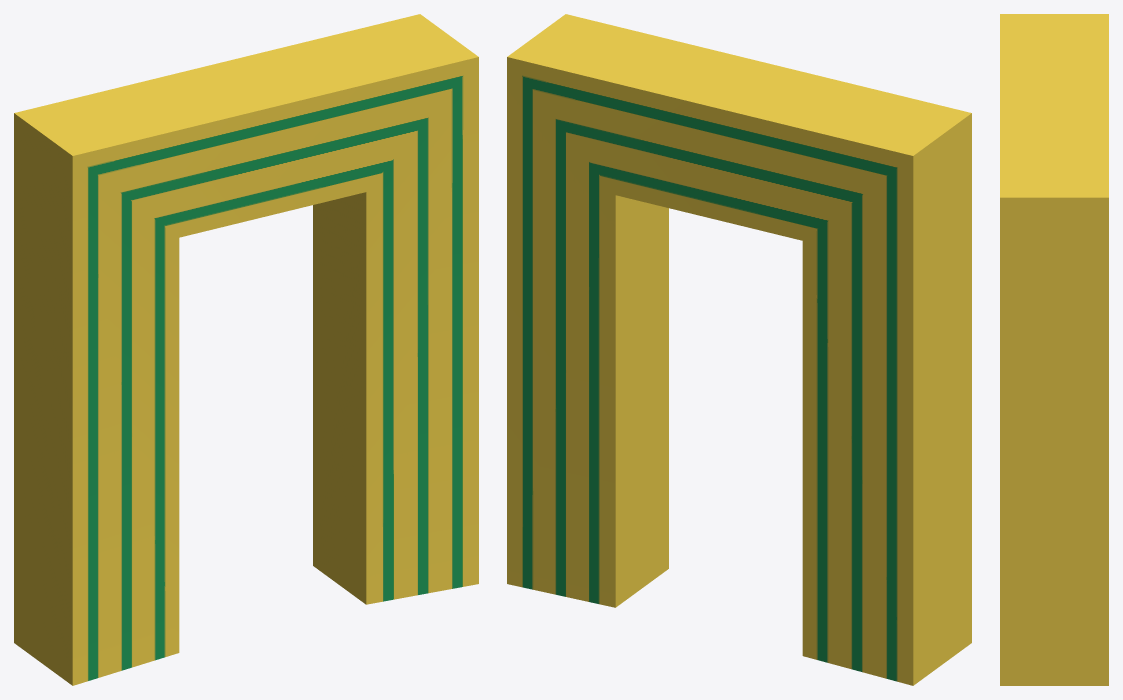
The model's file is M_door_03.fbx.
3 views of the same model, side by side, from view 1: azimuth 30°, elevation 25°; view 2: azimuth 150°, elevation 25°; view 3: azimuth 270°, elevation 25° (orthographic). The views are drawn at different scales.
Parts seen in each view (by area): view 1: Cube.011; view 2: Cube.011; view 3: Cube.011.
Boxes of the visible parts, x1=… form: Cube.011: x1=14, y1=14, x2=478, y2=685; Cube.011: x1=507, y1=14, x2=971, y2=685; Cube.011: x1=1000, y1=14, x2=1108, y2=685.
Bounding box in the file's own units: 413 × 515 × 103.
